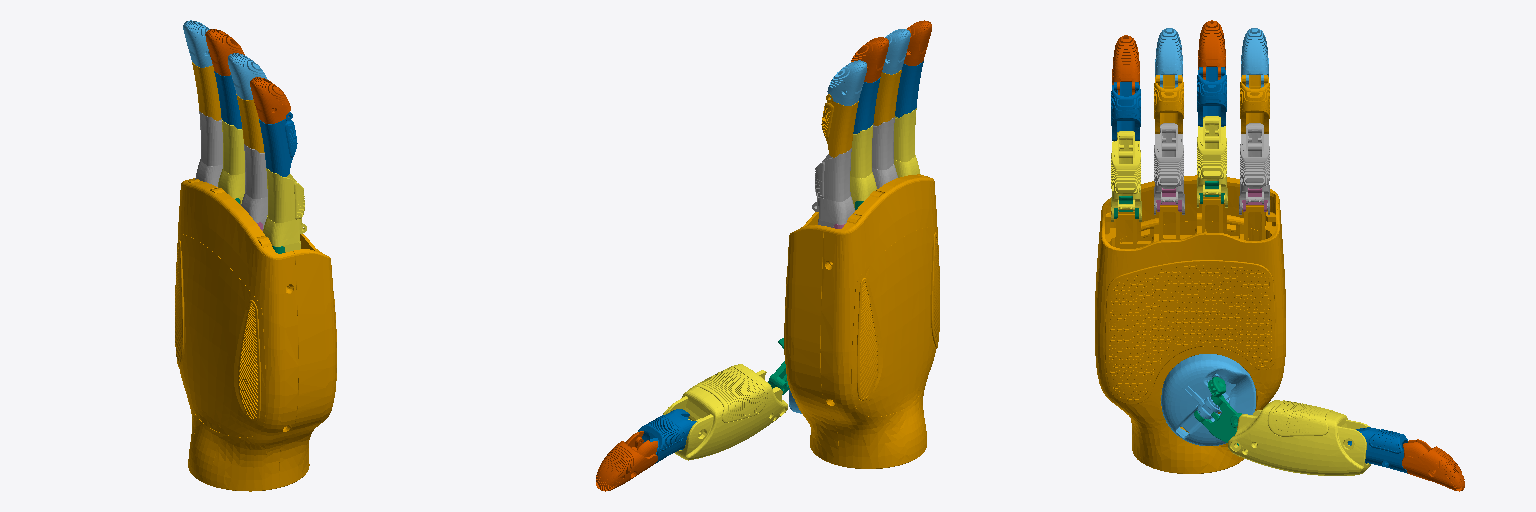
URDF robot description (hand):
<?xml version='1.0' encoding='utf-8'?>
<robot name="hand">
  <link name="rh_hand_base_link">
    <inertial>
      <origin xyz="-0.0023553326597099 -0.000476950676809626 0.0840274681191193" rpy="0 0 0" />
      <mass value="0.130043890829375" />
      <inertia ixx="0.000269869493590648" ixy="-5.66836728555976e-07" ixz="1.0791938448155e-06" iyy="0.000164906210534713" iyz="4.94586055862009e-06" izz="0.000118834524369526" />
    </inertial>
    <visual>
      <origin xyz="0 0 0" rpy="0 0 0" />
      <geometry><mesh filename="meshes/visual/rh_hand_base_link_vis.obj" /></geometry>
    </visual>
    <collision>
      <origin xyz="0 0 0" rpy="0 0 0" />
      <geometry><mesh filename="meshes/visual/rh_hand_base_link_vis.obj" /></geometry>
    </collision>
  </link>
  <link name="rh_thumb_metacarpals_base1">
    <inertial>
      <origin xyz="0.0121300685642492 -0.00368626401900367 0.000253013805235423" rpy="0 0 0" />
      <mass value="0.0173128324517923" />
      <inertia ixx="4.04974890264239e-06" ixy="-1.31074266242452e-07" ixz="-7.53905165403527e-09" iyy="2.43513754798381e-06" iyz="1.46366596393199e-07" izz="2.09347392894973e-06" />
    </inertial>
    <visual>
      <origin xyz="0 0 0" rpy="0 0 0" />
      <geometry><mesh filename="meshes/visual/rh_thumb_metacarpals_base1_vis.obj" /></geometry>
    </visual>
    <collision>
      <origin xyz="0 0 0" rpy="0 0 0" />
      <geometry><mesh filename="meshes/visual/rh_thumb_metacarpals_base1_vis.obj" /></geometry>
    </collision>
  </link>
  <link name="rh_thumb_metacarpals_base2">
    <inertial>
      <origin xyz="0.00274804892423072 0.00768600825377847 0.00362008971119372" rpy="0 0 0" />
      <mass value="0.0129293097380942" />
      <inertia ixx="1.760752912378147e-06" ixy="3.5029507180292e-07" ixz="-1.32342776895603e-07" iyy="7.758748827283011e-07" iyz="-3.69293599975358e-07" izz="1.450608374471467e-06" />
    </inertial>
    <visual>
      <origin xyz="0 0 0" rpy="0 0 0" />
      <geometry><mesh filename="meshes/visual/rh_thumb_metacarpals_base2_vis.obj" /></geometry>
    </visual>
    <collision>
      <origin xyz="0 0 0" rpy="0 0 0" />
      <geometry><mesh filename="meshes/visual/rh_thumb_metacarpals_base2_vis.obj" /></geometry>
    </collision>
  </link>
  <link name="rh_thumb_metacarpals">
    <inertial>
      <origin xyz="0.00680467489235993 -0.000348945978923473 0.0329029974283304" rpy="0 0 0" />
      <mass value="0.0311449727019751" />
      <inertia ixx="1.14965619264847e-05" ixy="-1.14093661337383e-08" ixz="5.08562599330683e-08" iyy="1.37913772817647e-05" iyz="2.39355105126118e-08" izz="3.56917509196916e-06" />
    </inertial>
    <visual>
      <origin xyz="0 0 0" rpy="0 0 0" />
      <geometry><mesh filename="meshes/visual/rh_thumb_metacarpals_vis.obj" /></geometry>
    </visual>
    <collision>
      <origin xyz="0 0 0" rpy="0 0 0" />
      <geometry><mesh filename="meshes/visual/rh_thumb_metacarpals_vis.obj" /></geometry>
    </collision>
  </link>
  <link name="rh_thumb_proximal">
    <inertial>
      <origin xyz="-0.00268743345276515 0.000568290980153867 0.0118503606835096" rpy="0 0 0" />
      <mass value="0.00549015851204037" />
      <inertia ixx="4.78349857032437e-07" ixy="4.61712014179472e-11" ixz="5.4113877466635e-08" iyy="6.23171205283375e-07" iyz="5.11556682719536e-09" izz="2.34919130274949e-07" />
    </inertial>
    <visual>
      <origin xyz="0 0 0" rpy="0 0 0" />
      <geometry><mesh filename="meshes/visual/rh_thumb_proximal_vis.obj" /></geometry>
    </visual>
    <collision>
      <origin xyz="0 0 0" rpy="0 0 0" />
      <geometry><mesh filename="meshes/visual/rh_thumb_proximal_vis.obj" /></geometry>
    </collision>
  </link>
  <link name="rh_thumb_distal">
    <inertial>
      <origin xyz="-0.000650482106033023 2.41300573138245e-05 0.0111942838051236" rpy="0 0 0" />
      <mass value="0.00585464206993151" />
      <inertia ixx="3.37157269656711e-07" ixy="3.69307135027908e-10" ixz="-1.12308316041907e-07" iyy="4.37703462647265e-07" iyz="-9.3624675389561e-10" izz="1.85639673847353e-07" />
    </inertial>
    <visual>
      <origin xyz="0 0 0" rpy="0 0 0" />
      <geometry><mesh filename="meshes/visual/rh_thumb_distal_vis.obj" /></geometry>
    </visual>
    <collision>
      <origin xyz="0 0 0" rpy="0 0 0" />
      <geometry><mesh filename="meshes/visual/rh_thumb_distal_vis.obj" /></geometry>
    </collision>
  </link>
  <link name="rh_index_metacarpals">
    <inertial>
      <origin xyz="-0.00794297216778595 3.01910607593964e-07 0.00220112291424343" rpy="0 0 0" />
      <mass value="0.000895533942236676" />
      <inertia ixx="3.46286808249453e-08" ixy="5.20721113539202e-13" ixz="5.91055676999344e-09" iyy="2.85439868980493e-08" iyz="6.15915602928681e-13" izz="4.38105935701441e-08" />
    </inertial>
    <visual>
      <origin xyz="0 0 0" rpy="0 0 0" />
      <geometry><mesh filename="meshes/visual/rh_index_metacarpals_vis.obj" /></geometry>
    </visual>
    <collision>
      <origin xyz="0 0 0" rpy="0 0 0" />
      <geometry><mesh filename="meshes/visual/rh_index_metacarpals_vis.obj" /></geometry>
    </collision>
  </link>
  <link name="rh_index_proximal">
    <inertial>
      <origin xyz="-0.00114165889805229 -3.47779025311364e-05 0.0228930740987338" rpy="0 0 0" />
      <mass value="0.00450935628154297" />
      <inertia ixx="6.66693338335738e-07" ixy="1.00781853152623e-11" ixz="-2.53156876802064e-08" iyy="6.74214594716538e-07" iyz="1.59197443844205e-10" izz="1.3576088799113e-07" />
    </inertial>
    <visual>
      <origin xyz="0 0 0" rpy="0 0 0" />
      <geometry><mesh filename="meshes/visual/rh_index_proximal_vis.obj" /></geometry>
    </visual>
    <collision>
      <origin xyz="0 0 0" rpy="0 0 0" />
      <geometry><mesh filename="meshes/visual/rh_index_proximal_vis.obj" /></geometry>
    </collision>
  </link>
  <link name="rh_index_middle">
    <inertial>
      <origin xyz="-0.000206830314670474 -2.69762827288106e-06 0.0167055565294545" rpy="0 0 0" />
      <mass value="0.00237861824163327" />
      <inertia ixx="2.29584431475404e-07" ixy="-3.79527882007371e-12" ixz="-1.47269516053005e-08" iyy="1.76802239049368e-07" iyz="3.59871792473524e-13" izz="9.62875380319572e-08" />
    </inertial>
    <visual>
      <origin xyz="0 0 0" rpy="0 0 0" />
      <geometry><mesh filename="meshes/visual/rh_index_middle_vis.obj" /></geometry>
    </visual>
    <collision>
      <origin xyz="0 0 0" rpy="0 0 0" />
      <geometry><mesh filename="meshes/visual/rh_index_middle_vis.obj" /></geometry>
    </collision>
  </link>
  <link name="rh_index_distal">
    <inertial>
      <origin xyz="-0.00816260402461631 -2.26721604493323e-05 0.00811819722869647" rpy="0 0 0" />
      <mass value="0.00334176238570705" />
      <inertia ixx="1.59568900399119e-07" ixy="-1.52271643281661e-10" ixz="-5.94266141046017e-08" iyy="1.78096631602274e-07" iyz="1.23981970768957e-10" izz="1.34139906914153e-07" />
    </inertial>
    <visual>
      <origin xyz="0 0 0" rpy="0 0 0" />
      <geometry><mesh filename="meshes/visual/rh_index_distal_vis.obj" /></geometry>
    </visual>
    <collision>
      <origin xyz="0 0 0" rpy="0 0 0" />
      <geometry><mesh filename="meshes/visual/rh_index_distal_vis.obj" /></geometry>
    </collision>
  </link>
  <link name="rh_middle_metacarpals">
    <inertial>
      <origin xyz="-0.00794297217144934 3.01910607571412e-07 0.00220112291424346" rpy="0 0 0" />
      <mass value="0.000895533942236672" />
      <inertia ixx="3.46286808249452e-08" ixy="5.20721113361698e-13" ixz="5.91055676999347e-09" iyy="2.85439868980493e-08" iyz="6.15915602825396e-13" izz="4.3810593570144e-08" />
    </inertial>
    <visual>
      <origin xyz="0 0 0" rpy="0 0 0" />
      <geometry><mesh filename="meshes/visual/rh_middle_metacarpals_vis.obj" /></geometry>
    </visual>
    <collision>
      <origin xyz="0 0 0" rpy="0 0 0" />
      <geometry><mesh filename="meshes/visual/rh_middle_metacarpals_vis.obj" /></geometry>
    </collision>
  </link>
  <link name="rh_middle_proximal">
    <inertial>
      <origin xyz="-0.00114165889805231 -3.47779025311071e-05 0.0228930740987338" rpy="0 0 0" />
      <mass value="0.00450935628154299" />
      <inertia ixx="6.66693338335741e-07" ixy="1.00781853158879e-11" ixz="-2.53156876802067e-08" iyy="6.74214594716535e-07" iyz="1.59197443844791e-10" izz="1.35760887991121e-07" />
    </inertial>
    <visual>
      <origin xyz="0 0 0" rpy="0 0 0" />
      <geometry><mesh filename="meshes/visual/rh_middle_proximal_vis.obj" /></geometry>
    </visual>
    <collision>
      <origin xyz="0 0 0" rpy="0 0 0" />
      <geometry><mesh filename="meshes/visual/rh_middle_proximal_vis.obj" /></geometry>
    </collision>
  </link>
  <link name="rh_middle_middle">
    <inertial>
      <origin xyz="-0.000206830311076763 -2.69763200638285e-06 0.0167055565392871" rpy="0 0 0" />
      <mass value="0.00237861824399121" />
      <inertia ixx="2.2958443176697e-07" ixy="-3.79531728857531e-12" ixz="-1.47269515025648e-08" iyy="1.76802239346606e-07" iyz="3.59776198217398e-13" izz="9.62875381090068e-08" />
    </inertial>
    <visual>
      <origin xyz="0 0 0" rpy="0 0 0" />
      <geometry><mesh filename="meshes/visual/rh_middle_middle_vis.obj" /></geometry>
    </visual>
    <collision>
      <origin xyz="0 0 0" rpy="0 0 0" />
      <geometry><mesh filename="meshes/visual/rh_middle_middle_vis.obj" /></geometry>
    </collision>
  </link>
  <link name="rh_middle_distal">
    <inertial>
      <origin xyz="-0.00816260402458386 -2.26721612610642e-05 0.00811819722943347" rpy="0 0 0" />
      <mass value="0.0033417623857295" />
      <inertia ixx="1.59568900407287e-07" ixy="-1.52271672185911e-10" ixz="-5.94266141070478e-08" iyy="1.78096631550001e-07" iyz="1.23981962913402e-10" izz="1.34139906932954e-07" />
    </inertial>
    <visual>
      <origin xyz="0 0 0" rpy="0 0 0" />
      <geometry><mesh filename="meshes/visual/rh_middle_distal_vis.obj" /></geometry>
    </visual>
    <collision>
      <origin xyz="0 0 0" rpy="0 0 0" />
      <geometry><mesh filename="meshes/visual/rh_middle_distal_vis.obj" /></geometry>
    </collision>
  </link>
  <link name="rh_ring_metacarpals">
    <inertial>
      <origin xyz="-0.00794297217511273 3.01910607531514e-07 0.00220112291424343" rpy="0 0 0" />
      <mass value="0.00089553394223667" />
      <inertia ixx="3.4628680824945e-08" ixy="5.2072111337213e-13" ixz="5.91055676999336e-09" iyy="2.8543986898049e-08" iyz="6.15915602738524e-13" izz="4.38105935701438e-08" />
    </inertial>
    <visual>
      <origin xyz="0 0 0" rpy="0 0 0" />
      <geometry><mesh filename="meshes/visual/rh_ring_metacarpals_vis.obj" /></geometry>
    </visual>
    <collision>
      <origin xyz="0 0 0" rpy="0 0 0" />
      <geometry><mesh filename="meshes/visual/rh_ring_metacarpals_vis.obj" /></geometry>
    </collision>
  </link>
  <link name="rh_ring_proximal">
    <inertial>
      <origin xyz="-0.00114165889805229 -3.47779025311641e-05 0.0228930740987337" rpy="0 0 0" />
      <mass value="0.00450935628154299" />
      <inertia ixx="6.66693338335738e-07" ixy="1.00781853170701e-11" ixz="-2.53156876802064e-08" iyy="6.74214594716548e-07" iyz="1.59197443843837e-10" izz="1.3576088799114e-07" />
    </inertial>
    <visual>
      <origin xyz="0 0 0" rpy="0 0 0" />
      <geometry><mesh filename="meshes/visual/rh_ring_proximal_vis.obj" /></geometry>
    </visual>
    <collision>
      <origin xyz="0 0 0" rpy="0 0 0" />
      <geometry><mesh filename="meshes/visual/rh_ring_proximal_vis.obj" /></geometry>
    </collision>
  </link>
  <link name="rh_ring_middle">
    <inertial>
      <origin xyz="-0.000206830314670712 -2.69762827293657e-06 0.0167055565294543" rpy="0 0 0" />
      <mass value="0.00237861824163314" />
      <inertia ixx="2.29584431475388e-07" ixy="-3.79527881056473e-12" ixz="-1.47269516053097e-08" iyy="1.76802239049448e-07" iyz="3.59871797815951e-13" izz="9.62875380320043e-08" />
    </inertial>
    <visual>
      <origin xyz="0 0 0" rpy="0 0 0" />
      <geometry><mesh filename="meshes/visual/rh_ring_middle_vis.obj" /></geometry>
    </visual>
    <collision>
      <origin xyz="0 0 0" rpy="0 0 0" />
      <geometry><mesh filename="meshes/visual/rh_ring_middle_vis.obj" /></geometry>
    </collision>
  </link>
  <link name="rh_ring_distal">
    <inertial>
      <origin xyz="-0.00816260402385198 -2.26723442381116e-05 0.00811819722787116" rpy="0 0 0" />
      <mass value="0.00334176238553782" />
      <inertia ixx="1.59568900413529e-07" ixy="-1.5226555011147e-10" ixz="-5.9426614092103e-08" iyy="1.78096631554275e-07" iyz="1.23978578539056e-10" izz="1.34139906897543e-07" />
    </inertial>
    <visual>
      <origin xyz="0 0 0" rpy="0 0 0" />
      <geometry><mesh filename="meshes/visual/rh_ring_distal_vis.obj" /></geometry>
    </visual>
    <collision>
      <origin xyz="0 0 0" rpy="0 0 0" />
      <geometry><mesh filename="meshes/visual/rh_ring_distal_vis.obj" /></geometry>
    </collision>
  </link>
  <link name="rh_pinky_metacarpals">
    <inertial>
      <origin xyz="-0.00794297217877612 3.019106075558e-07 0.00220112291424343" rpy="0 0 0" />
      <mass value="0.000895533942236661" />
      <inertia ixx="3.46286808249448e-08" ixy="5.20721113385638e-13" ixz="5.91055676999334e-09" iyy="2.85439868980489e-08" iyz="6.15915602787648e-13" izz="4.38105935701437e-08" />
    </inertial>
    <visual>
      <origin xyz="0 0 0" rpy="0 0 0" />
      <geometry><mesh filename="meshes/visual/rh_pinky_metacarpals_vis.obj" /></geometry>
    </visual>
    <collision>
      <origin xyz="0 0 0" rpy="0 0 0" />
      <geometry><mesh filename="meshes/visual/rh_pinky_metacarpals_vis.obj" /></geometry>
    </collision>
  </link>
  <link name="rh_pinky_proximal">
    <inertial>
      <origin xyz="-0.00114165890216106 -3.47779084241967e-05 0.0228930741124087" rpy="0 0 0" />
      <mass value="0.00450935627773312" />
      <inertia ixx="6.6669333754323e-07" ixy="1.00781372651744e-11" ixz="-2.53156873668278e-08" iyy="6.74214593816853e-07" iyz="1.59197565505674e-10" izz="1.35760887844139e-07" />
    </inertial>
    <visual>
      <origin xyz="0 0 0" rpy="0 0 0" />
      <geometry><mesh filename="meshes/visual/rh_pinky_proximal_vis.obj" /></geometry>
    </visual>
    <collision>
      <origin xyz="0 0 0" rpy="0 0 0" />
      <geometry><mesh filename="meshes/visual/rh_pinky_proximal_vis.obj" /></geometry>
    </collision>
  </link>
  <link name="rh_pinky_middle">
    <inertial>
      <origin xyz="-0.000206830314670489 -2.69762827287412e-06 0.0167055565294545" rpy="0 0 0" />
      <mass value="0.0023786182416333" />
      <inertia ixx="2.29584431475459e-07" ixy="-3.79527884680841e-12" ixz="-1.47269516053079e-08" iyy="1.76802239049466e-07" iyz="3.5987180643017e-13" izz="9.62875380320415e-08" />
    </inertial>
    <visual>
      <origin xyz="0 0 0" rpy="0 0 0" />
      <geometry><mesh filename="meshes/visual/rh_pinky_middle_vis.obj" /></geometry>
    </visual>
    <collision>
      <origin xyz="0 0 0" rpy="0 0 0" />
      <geometry><mesh filename="meshes/visual/rh_pinky_middle_vis.obj" /></geometry>
    </collision>
  </link>
  <link name="rh_pinky_distal">
    <inertial>
      <origin xyz="-0.00816260391299546 -2.26722056161019e-05 0.00811819704290559" rpy="0 0 0" />
      <mass value="0.00334176233214274" />
      <inertia ixx="1.59568898336975e-07" ixy="-1.52270106341856e-10" ixz="-5.94266114992739e-08" iyy="1.78096625944569e-07" iyz="1.23981107883524e-10" izz="1.3413990252827e-07" />
    </inertial>
    <visual>
      <origin xyz="0 0 0" rpy="0 0 0" />
      <geometry><mesh filename="meshes/visual/rh_pinky_distal_vis.obj" /></geometry>
    </visual>
    <collision>
      <origin xyz="0 0 0" rpy="0 0 0" />
      <geometry><mesh filename="meshes/visual/rh_pinky_distal_vis.obj" /></geometry>
    </collision>
  </link>
  <joint name="rh_thumb_cmc_roll" type="revolute">
    <origin xyz="0.01916 0.01 0.0436" rpy="0 0 0" />
    <parent link="rh_hand_base_link" />
    <child link="rh_thumb_metacarpals_base1" />
    <axis xyz="1 0 0" />
    <limit lower="0" upper="1.309" effort="1" velocity="100" />
  </joint>
  <joint name="rh_thumb_cmc_yaw" type="revolute">
    <origin xyz="0.019845 0 0" rpy="-0.77165 0 0" />
    <parent link="rh_thumb_metacarpals_base1" />
    <child link="rh_thumb_metacarpals_base2" />
    <axis xyz="0 0 -1" />
    <limit lower="0" upper="1.5882" effort="1" velocity="100" />
  </joint>
  <joint name="rh_thumb_cmc_pitch" type="revolute">
    <origin xyz="0.0088264 0.024243 0.0005" rpy="0 -0.91 -1.9199" />
    <parent link="rh_thumb_metacarpals_base2" />
    <child link="rh_thumb_metacarpals" />
    <axis xyz="0 1 0" />
    <limit lower="0" upper="0.7854" effort="1" velocity="100" />
  </joint>
  <joint name="rh_thumb_mcp" type="revolute">
    <origin xyz="0.012702 0 0.062726" rpy="0 0 0" />
    <parent link="rh_thumb_metacarpals" />
    <child link="rh_thumb_proximal" />
    <axis xyz="0 1 0" />
    <limit lower="0" upper="1.2217" effort="1" velocity="100" />
  </joint>
  <joint name="rh_thumb_dip" type="revolute">
    <origin xyz="-0.0048365 0 0.034223" rpy="0 0 0" />
    <parent link="rh_thumb_proximal" />
    <child link="rh_thumb_distal" />
    <axis xyz="0 1 0" />
    <limit lower="0" upper="1.2392" effort="1" velocity="100" />
    <mimic joint="rh_thumb_mcp" multiplier="1.0142" offset="0" />
  </joint>
  <joint name="rh_index_mcp_roll" type="revolute">
    <origin xyz="0.0038 0.03525 0.1481" rpy="0 0 0" />
    <parent link="rh_hand_base_link" />
    <child link="rh_index_metacarpals" />
    <axis xyz="1 0 0" />
    <limit lower="-0.2269" upper="0.2269" effort="1" velocity="100" />
  </joint>
  <joint name="rh_index_mcp_pitch" type="revolute">
    <origin xyz="-0.0021302 0 0" rpy="0 0 0" />
    <parent link="rh_index_metacarpals" />
    <child link="rh_index_proximal" />
    <axis xyz="0 1 0" />
    <limit lower="0" upper="1.2217" effort="1" velocity="100" />
  </joint>
  <joint name="rh_index_pip" type="revolute">
    <origin xyz="-0.0041946 0 0.044819" rpy="0 0 0" />
    <parent link="rh_index_proximal" />
    <child link="rh_index_middle" />
    <axis xyz="0 1 0" />
    <limit lower="0" upper="1.7279" effort="1" velocity="100" />
  </joint>
  <joint name="rh_index_dip" type="revolute">
    <origin xyz="0.0028245 0 0.031696" rpy="0 0 0" />
    <parent link="rh_index_middle" />
    <child link="rh_index_distal" />
    <axis xyz="0 1 0" />
    <limit lower="0" upper="1.3614" effort="1" velocity="100" />
    <mimic joint="rh_index_pip" multiplier="0.7879" offset="0" />
  </joint>
  <joint name="rh_middle_mcp_roll" type="revolute">
    <origin xyz="0.0038 0.01175 0.1526" rpy="0 0 0" />
    <parent link="rh_hand_base_link" />
    <child link="rh_middle_metacarpals" />
    <axis xyz="1 0 0" />
    <limit lower="-0.23" upper="0.23" effort="1" velocity="100" />
  </joint>
  <joint name="rh_middle_mcp_pitch" type="revolute">
    <origin xyz="-0.0021302 0 0" rpy="0 0 0" />
    <parent link="rh_middle_metacarpals" />
    <child link="rh_middle_proximal" />
    <axis xyz="0 1 0" />
    <limit lower="0" upper="1.2217" effort="1" velocity="100" />
  </joint>
  <joint name="rh_middle_pip" type="revolute">
    <origin xyz="-0.0041946 0 0.044819" rpy="0 0 0" />
    <parent link="rh_middle_proximal" />
    <child link="rh_middle_middle" />
    <axis xyz="0 1 0" />
    <limit lower="0" upper="1.7279" effort="1" velocity="100" />
  </joint>
  <joint name="rh_middle_dip" type="revolute">
    <origin xyz="0.0028245 0 0.031696" rpy="0 0 0" />
    <parent link="rh_middle_middle" />
    <child link="rh_middle_distal" />
    <axis xyz="0 1 0" />
    <limit lower="0" upper="1.3614" effort="1" velocity="100" />
    <mimic joint="rh_middle_pip" multiplier="0.7879" offset="0" />
  </joint>
  <joint name="rh_ring_mcp_roll" type="revolute">
    <origin xyz="0.0038 -0.01175 0.1481" rpy="0 0 0" />
    <parent link="rh_hand_base_link" />
    <child link="rh_ring_metacarpals" />
    <axis xyz="1 0 0" />
    <limit lower="-0.23" upper="0.23" effort="1" velocity="100" />
  </joint>
  <joint name="rh_ring_mcp_pitch" type="revolute">
    <origin xyz="-0.0021302 0 0" rpy="0 0 0" />
    <parent link="rh_ring_metacarpals" />
    <child link="rh_ring_proximal" />
    <axis xyz="0 1 0" />
    <limit lower="0" upper="1.2217" effort="1" velocity="100" />
  </joint>
  <joint name="rh_ring_pip" type="revolute">
    <origin xyz="-0.0041946 0 0.044819" rpy="0 0 0" />
    <parent link="rh_ring_proximal" />
    <child link="rh_ring_middle" />
    <axis xyz="0 1 0" />
    <limit lower="0" upper="1.7279" effort="1" velocity="100" />
  </joint>
  <joint name="rh_ring_dip" type="revolute">
    <origin xyz="0.0028245 0 0.031696" rpy="0 0 0" />
    <parent link="rh_ring_middle" />
    <child link="rh_ring_distal" />
    <axis xyz="0 1 0" />
    <limit lower="0" upper="1.3614" effort="1" velocity="100" />
    <mimic joint="rh_ring_pip" multiplier="0.7879" offset="0" />
  </joint>
  <joint name="rh_pinky_mcp_roll" type="revolute">
    <origin xyz="0.0038 -0.03525 0.1436" rpy="0 0 0" />
    <parent link="rh_hand_base_link" />
    <child link="rh_pinky_metacarpals" />
    <axis xyz="1 0 0" />
    <limit lower="-0.23" upper="0.23" effort="1" velocity="100" />
  </joint>
  <joint name="rh_pinky_mcp_pitch" type="revolute">
    <origin xyz="-0.0021302 0 0" rpy="0 0 0" />
    <parent link="rh_pinky_metacarpals" />
    <child link="rh_pinky_proximal" />
    <axis xyz="0 1 0" />
    <limit lower="0" upper="1.2217" effort="1" velocity="100" />
  </joint>
  <joint name="rh_pinky_pip" type="revolute">
    <origin xyz="-0.0041946 0 0.044819" rpy="0 0 0" />
    <parent link="rh_pinky_proximal" />
    <child link="rh_pinky_middle" />
    <axis xyz="0 1 0" />
    <limit lower="0" upper="1.7279" effort="1" velocity="100" />
  </joint>
  <joint name="rh_pinky_dip" type="revolute">
    <origin xyz="0.0028245 0 0.031696" rpy="0 0 0" />
    <parent link="rh_pinky_middle" />
    <child link="rh_pinky_distal" />
    <axis xyz="0 1 0" />
    <limit lower="0" upper="1.3614" effort="1" velocity="100" />
    <mimic joint="rh_pinky_pip" multiplier="0.7879" offset="0" />
  </joint>
</robot>

--- What the picture shows (computed from the rendered views, not written in the file) ---
Views: 3 orthographic renders of the robot side by side, from view 1: azimuth 30°, elevation 25°; view 2: azimuth 150°, elevation 25°; view 3: azimuth 270°, elevation 25°.
Robot: hand — 22 links, 21 joints (21 revolute); root link rh_hand_base_link; default pose: every joint at zero.
Links seen in each view (by area): view 1: rh_hand_base_link, rh_pinky_proximal, rh_pinky_middle, rh_middle_proximal, rh_ring_proximal, rh_index_proximal, rh_pinky_distal, rh_index_middle, rh_ring_distal, rh_middle_distal, rh_index_distal, rh_ring_middle (+1 smaller); view 2: rh_hand_base_link, rh_thumb_metacarpals, rh_index_proximal, rh_thumb_distal, rh_thumb_proximal, rh_index_middle, rh_middle_proximal, rh_ring_proximal, rh_pinky_proximal, rh_index_distal, rh_pinky_middle, rh_ring_middle (+4 smaller); view 3: rh_hand_base_link, rh_thumb_metacarpals, rh_thumb_metacarpals_base1, rh_middle_proximal, rh_pinky_proximal, rh_index_proximal, rh_ring_proximal, rh_thumb_distal, rh_thumb_proximal, rh_middle_middle, rh_pinky_middle, rh_index_middle (+6 smaller).
Boxes of the visible links, x1,y1,x2,y2 form: rh_hand_base_link: (175, 178, 336, 491); rh_pinky_proximal: (263, 168, 306, 252); rh_pinky_middle: (259, 112, 297, 176); rh_middle_proximal: (218, 120, 244, 204); rh_ring_proximal: (241, 144, 267, 228); rh_index_proximal: (195, 111, 222, 186); rh_pinky_distal: (250, 77, 290, 123); rh_index_middle: (192, 62, 221, 120); rh_ring_distal: (228, 53, 267, 99); rh_middle_distal: (205, 29, 244, 75); rh_index_distal: (183, 20, 212, 67); rh_ring_middle: (236, 94, 264, 152); rh_hand_base_link: (784, 174, 939, 468); rh_thumb_metacarpals: (663, 364, 787, 460); rh_index_proximal: (812, 148, 855, 227); rh_thumb_distal: (596, 431, 657, 491); rh_thumb_proximal: (638, 409, 696, 463); rh_index_middle: (821, 94, 858, 157); rh_middle_proximal: (850, 125, 876, 207); rh_ring_proximal: (872, 117, 897, 188); rh_pinky_proximal: (894, 108, 920, 177); rh_index_distal: (827, 60, 866, 105); rh_pinky_middle: (895, 61, 923, 117); rh_ring_middle: (873, 70, 901, 125); rh_hand_base_link: (1095, 175, 1285, 473); rh_thumb_metacarpals: (1228, 400, 1370, 475); rh_thumb_metacarpals_base1: (1161, 354, 1255, 445); rh_middle_proximal: (1197, 116, 1227, 207); rh_pinky_proximal: (1111, 131, 1141, 221); rh_index_proximal: (1239, 123, 1269, 214); rh_ring_proximal: (1154, 123, 1184, 214); rh_thumb_distal: (1402, 439, 1464, 491); rh_thumb_proximal: (1348, 427, 1407, 473); rh_middle_middle: (1197, 67, 1226, 126); rh_pinky_middle: (1111, 82, 1140, 140); rh_index_middle: (1240, 75, 1269, 133).
Bounding box of the posed robot: 0.1192 × 0.203 × 0.252 m (x, y, z).
22 mesh visuals loaded from 22 distinct referenced files (22 OBJ).
